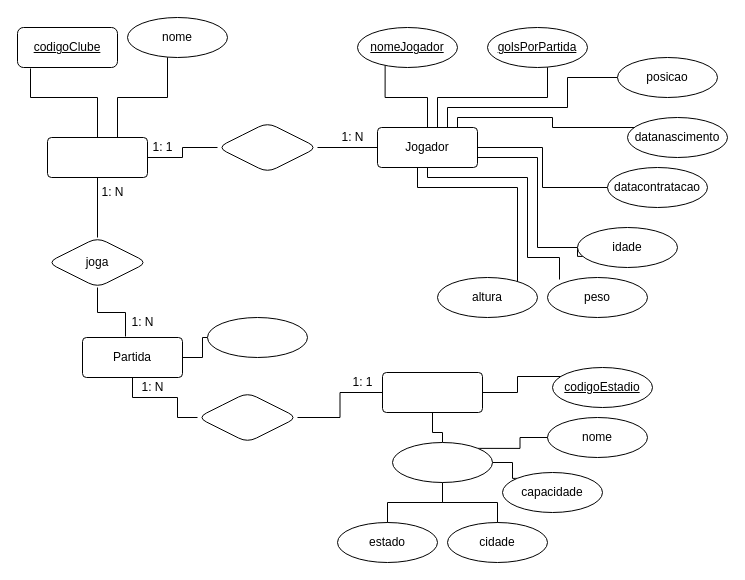
Some shapes in this 745 by 580 pixel diagram are drawn without their labels. The box of each missing label's shape, as (x1, y1, x2, y2) in pixels:
Clube: (46, 136, 148, 178)
codigoPartida: (206, 316, 308, 358)
contrata: (216, 122, 318, 172)
endereco: (392, 442, 492, 482)
Estadio: (382, 372, 482, 412)
realiza: (196, 392, 298, 442)
